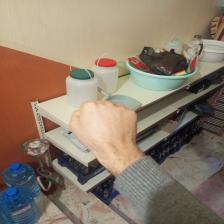five: (68, 98, 142, 154)
